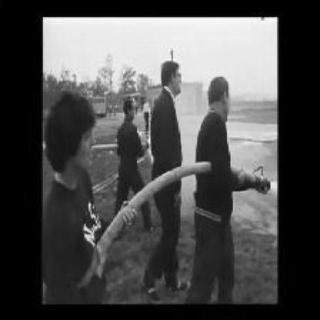other: (88, 95, 110, 119)
